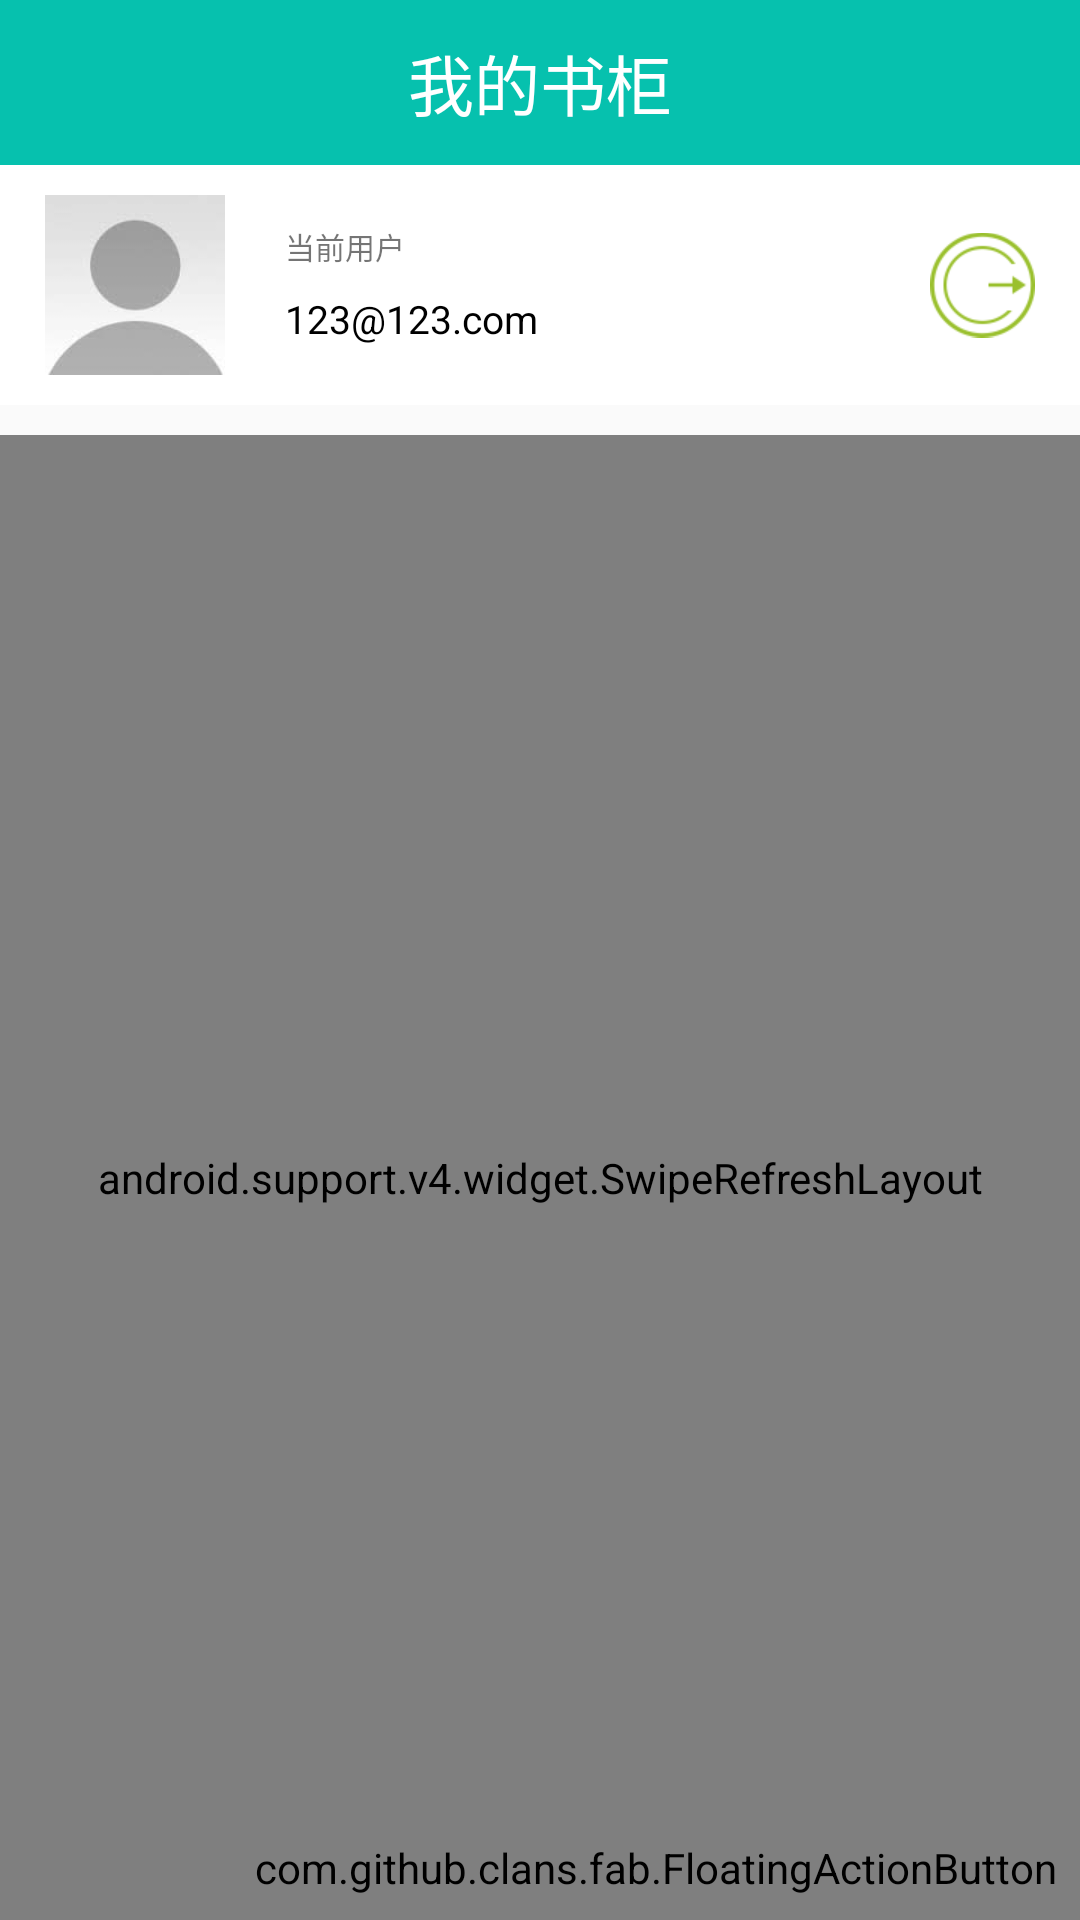

Where to tap for icons on this 1080×1920 app screen, as point (x, y):
user: point (135, 285)
